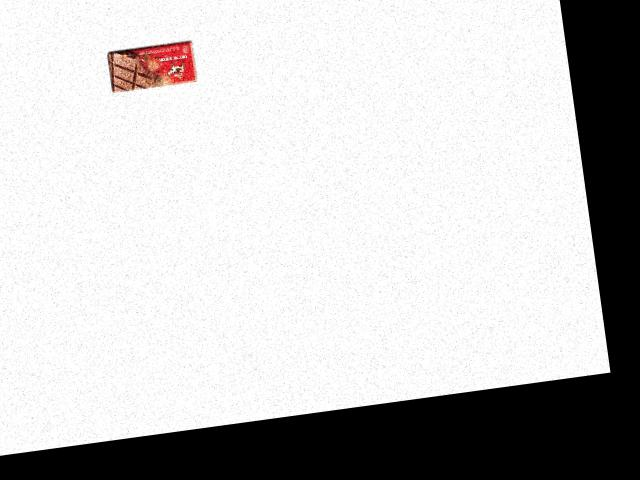chocolate: (104, 38, 198, 95)
